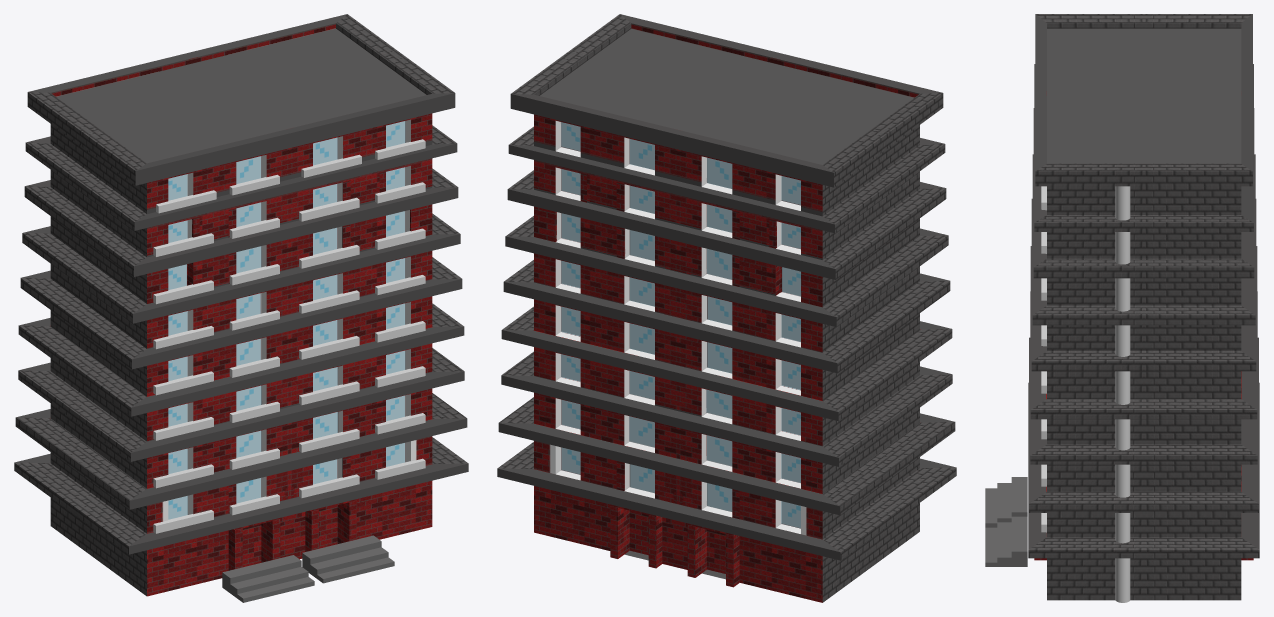
File: apt (1).fbx
3 views of the same model, side by side, from view 1: azimuth 30°, elevation 25°; view 2: azimuth 150°, elevation 25°; view 3: azimuth 270°, elevation 25° (orthographic).
Parts seen in each view (by area): view 1: pCube38, pasted__pCube34, pCube34, pCube18, pCube22, pCube24, pasted__pCube19, pasted__pCube21, pasted__pCube23, pCube19, pCube21, pCube23 (+7 smaller); view 2: pCube38; view 3: pCube38, pCylinder1, pCube34, pasted__pCube34.
Boxes of the visible parts, bbox=[...] form: pCube38: bbox=[14, 14, 468, 596]; pasted__pCube34: bbox=[222, 555, 314, 602]; pCube34: bbox=[302, 535, 394, 583]; pCube18: bbox=[299, 197, 359, 221]; pCube22: bbox=[299, 381, 359, 405]; pCube24: bbox=[299, 474, 359, 498]; pasted__pCube19: bbox=[153, 280, 213, 304]; pasted__pCube21: bbox=[153, 371, 213, 395]; pasted__pCube23: bbox=[153, 464, 213, 488]; pCube19: bbox=[299, 245, 359, 268]; pCube21: bbox=[299, 336, 359, 359]; pCube23: bbox=[299, 429, 359, 452]; pCube38: bbox=[497, 14, 956, 602]; pCube38: bbox=[1028, 14, 1259, 600]; pCylinder1: bbox=[1115, 186, 1130, 602]; pCube34: bbox=[985, 516, 1027, 566]; pasted__pCube34: bbox=[985, 477, 1027, 527].
Size of the model in its own units: 14.28 by 17.43 by 9.9.
6 materials, 1 textured.
